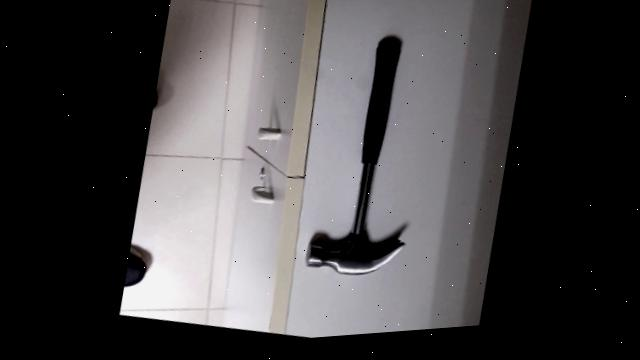hammer: (292, 32, 442, 298)
